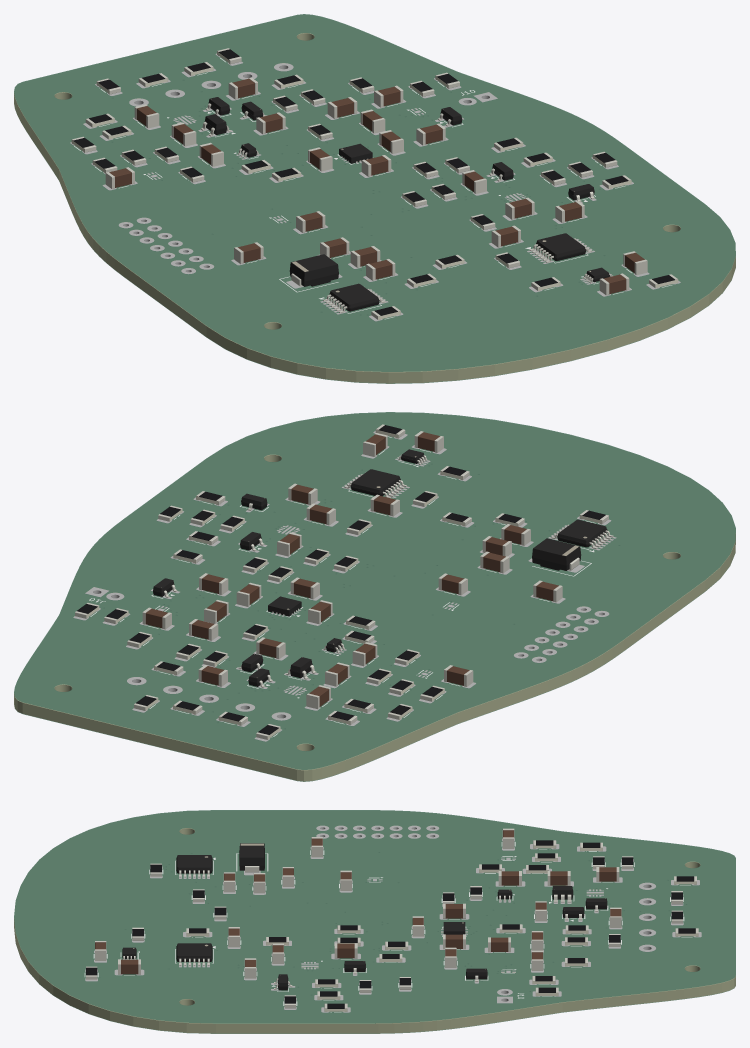
File: Upper.glb
3 renders of one model, top to bottom at view 1: azimuth 30°, elevation 25°; view 2: azimuth 150°, elevation 25°; view 3: azimuth 270°, elevation 25°, orthographic. The views are drawn at different scales.
Visible parts, largest first — view 1: =>[0:1:1:25], =>[0:1:1:23], =>[0:1:1:20], =>[0:1:1:3] (×2), =>[0:1:1:19], =>[0:1:1:21], =>[0:1:1:24]; view 2: =>[0:1:1:25], =>[0:1:1:23], =>[0:1:1:20], =>[0:1:1:3] (×2), =>[0:1:1:19], =>[0:1:1:21], =>[0:1:1:24]; view 3: =>[0:1:1:25], =>[0:1:1:23], =>[0:1:1:20], =>[0:1:1:3] (×2), =>[0:1:1:21], =>[0:1:1:19], =>[0:1:1:24], =>[0:1:1:5].
Part boxes in pixels (x1,y1,x2,y2): =>[0:1:1:25]: [14, 15, 735, 383]; =>[0:1:1:23]: [14, 14, 735, 371]; =>[0:1:1:20]: [70, 53, 680, 321]; =>[0:1:1:3] (×2): [323, 233, 592, 313]; =>[0:1:1:19]: [289, 254, 338, 286]; =>[0:1:1:21]: [74, 57, 672, 319]; =>[0:1:1:24]: [14, 106, 731, 383]; =>[0:1:1:25]: [14, 413, 735, 781]; =>[0:1:1:23]: [14, 412, 735, 769]; =>[0:1:1:20]: [73, 431, 616, 741]; =>[0:1:1:3] (×2): [344, 469, 613, 549]; =>[0:1:1:19]: [532, 538, 581, 570]; =>[0:1:1:21]: [89, 436, 607, 737]; =>[0:1:1:24]: [15, 544, 735, 781]; =>[0:1:1:25]: [14, 811, 735, 1033]; =>[0:1:1:23]: [14, 810, 735, 1023]; =>[0:1:1:20]: [85, 825, 701, 1012]; =>[0:1:1:3] (×2): [176, 855, 212, 965]; =>[0:1:1:21]: [84, 842, 692, 1012]; =>[0:1:1:19]: [239, 843, 264, 872]; =>[0:1:1:24]: [21, 959, 735, 1033]; =>[0:1:1:5]: [334, 943, 357, 958].
Size of the model in its own units: 0.07 by 0.0038 by 0.1.
